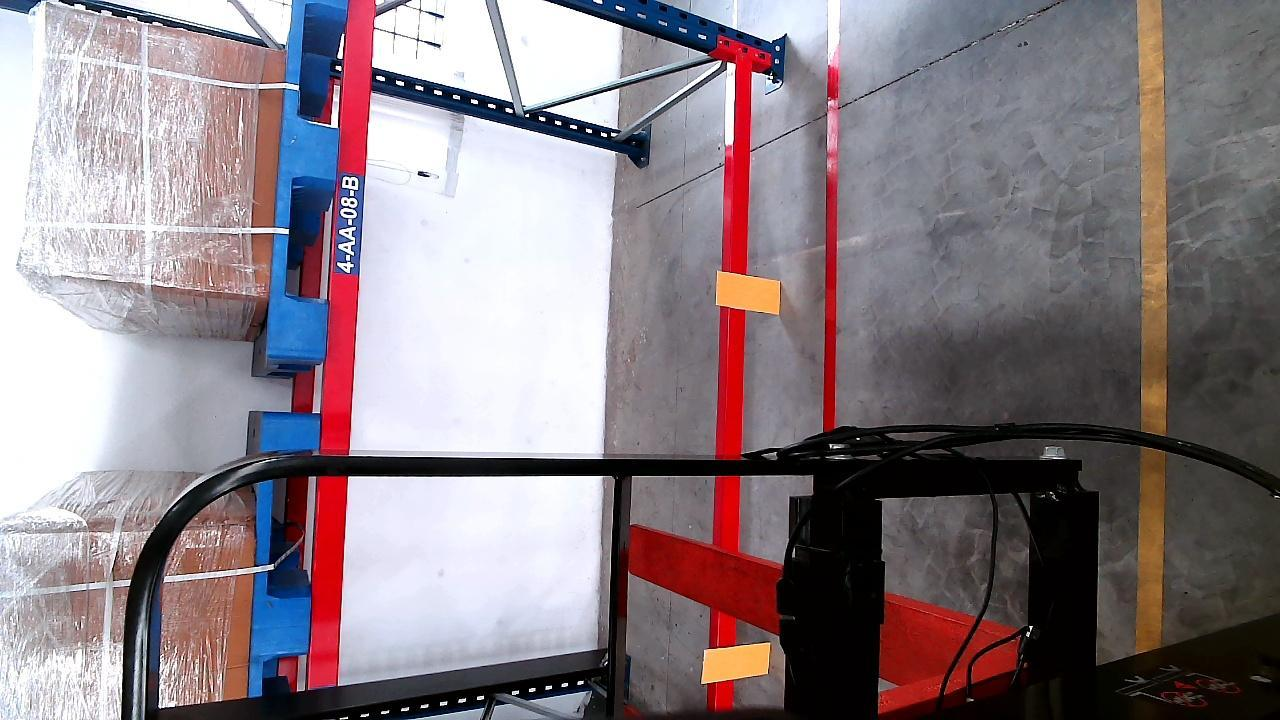red_line: (819, 29, 844, 427)
yellow_line: (1137, 0, 1173, 655)
